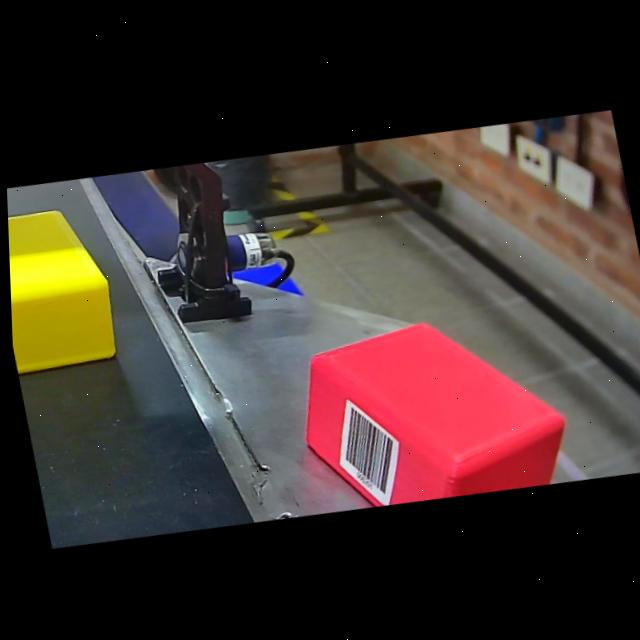redBox: (276, 290, 581, 520)
yellowBox: (6, 198, 127, 384)
